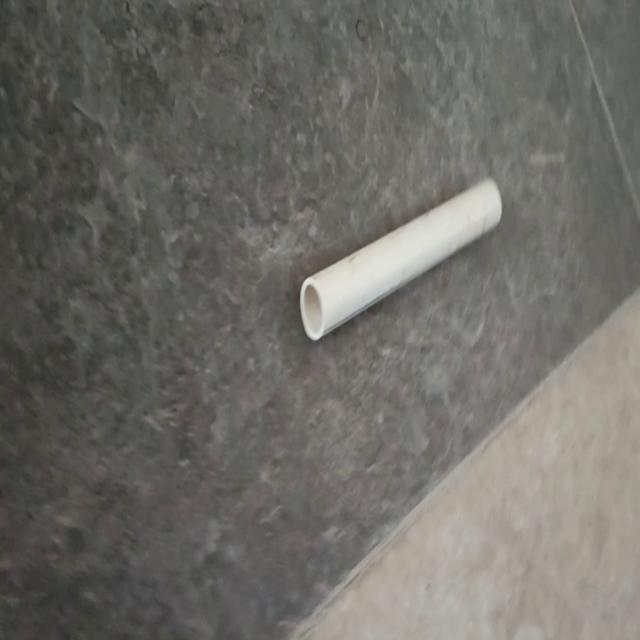Cube: (299, 175, 503, 342)
